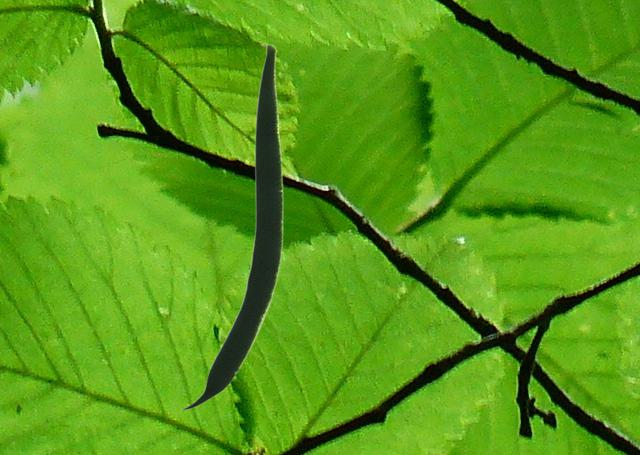french_bean: (181, 43, 282, 409)
